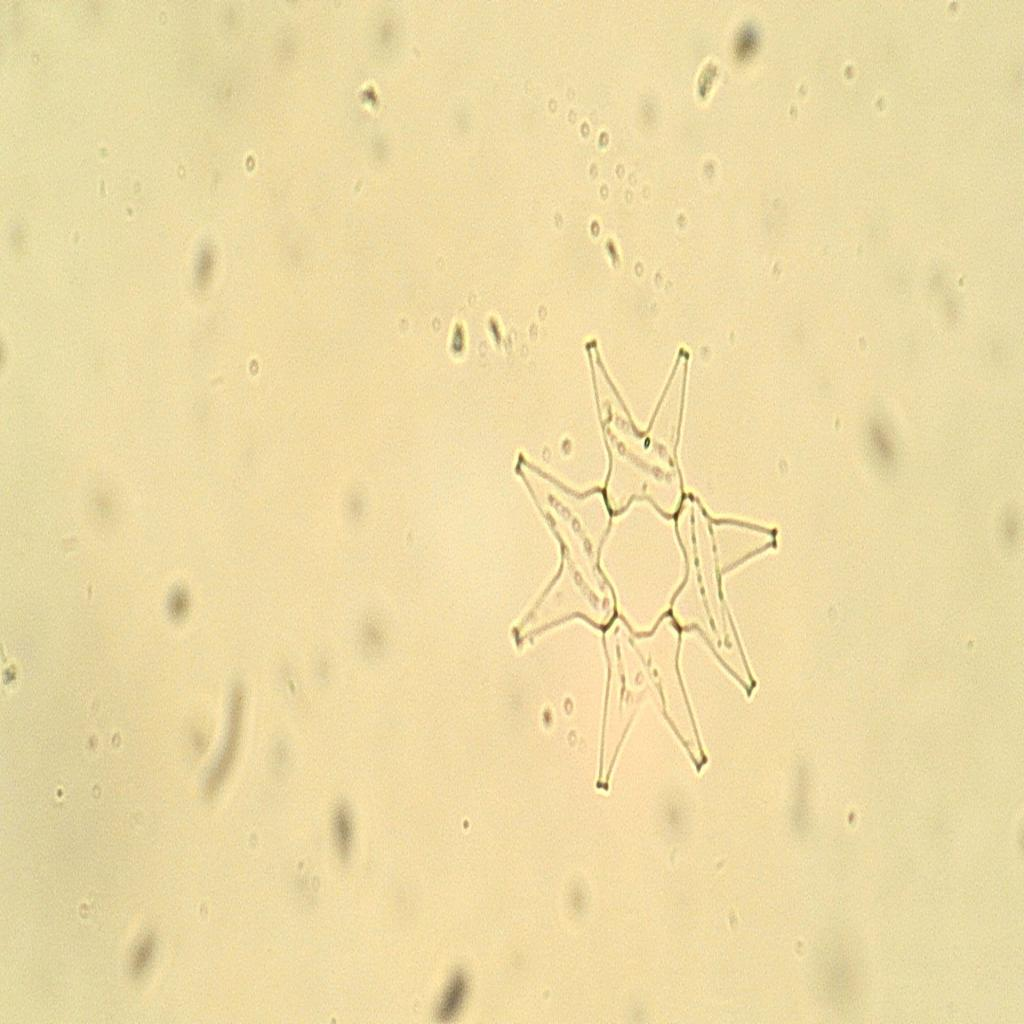Pediastrum_75TH: (492, 284, 794, 847)
